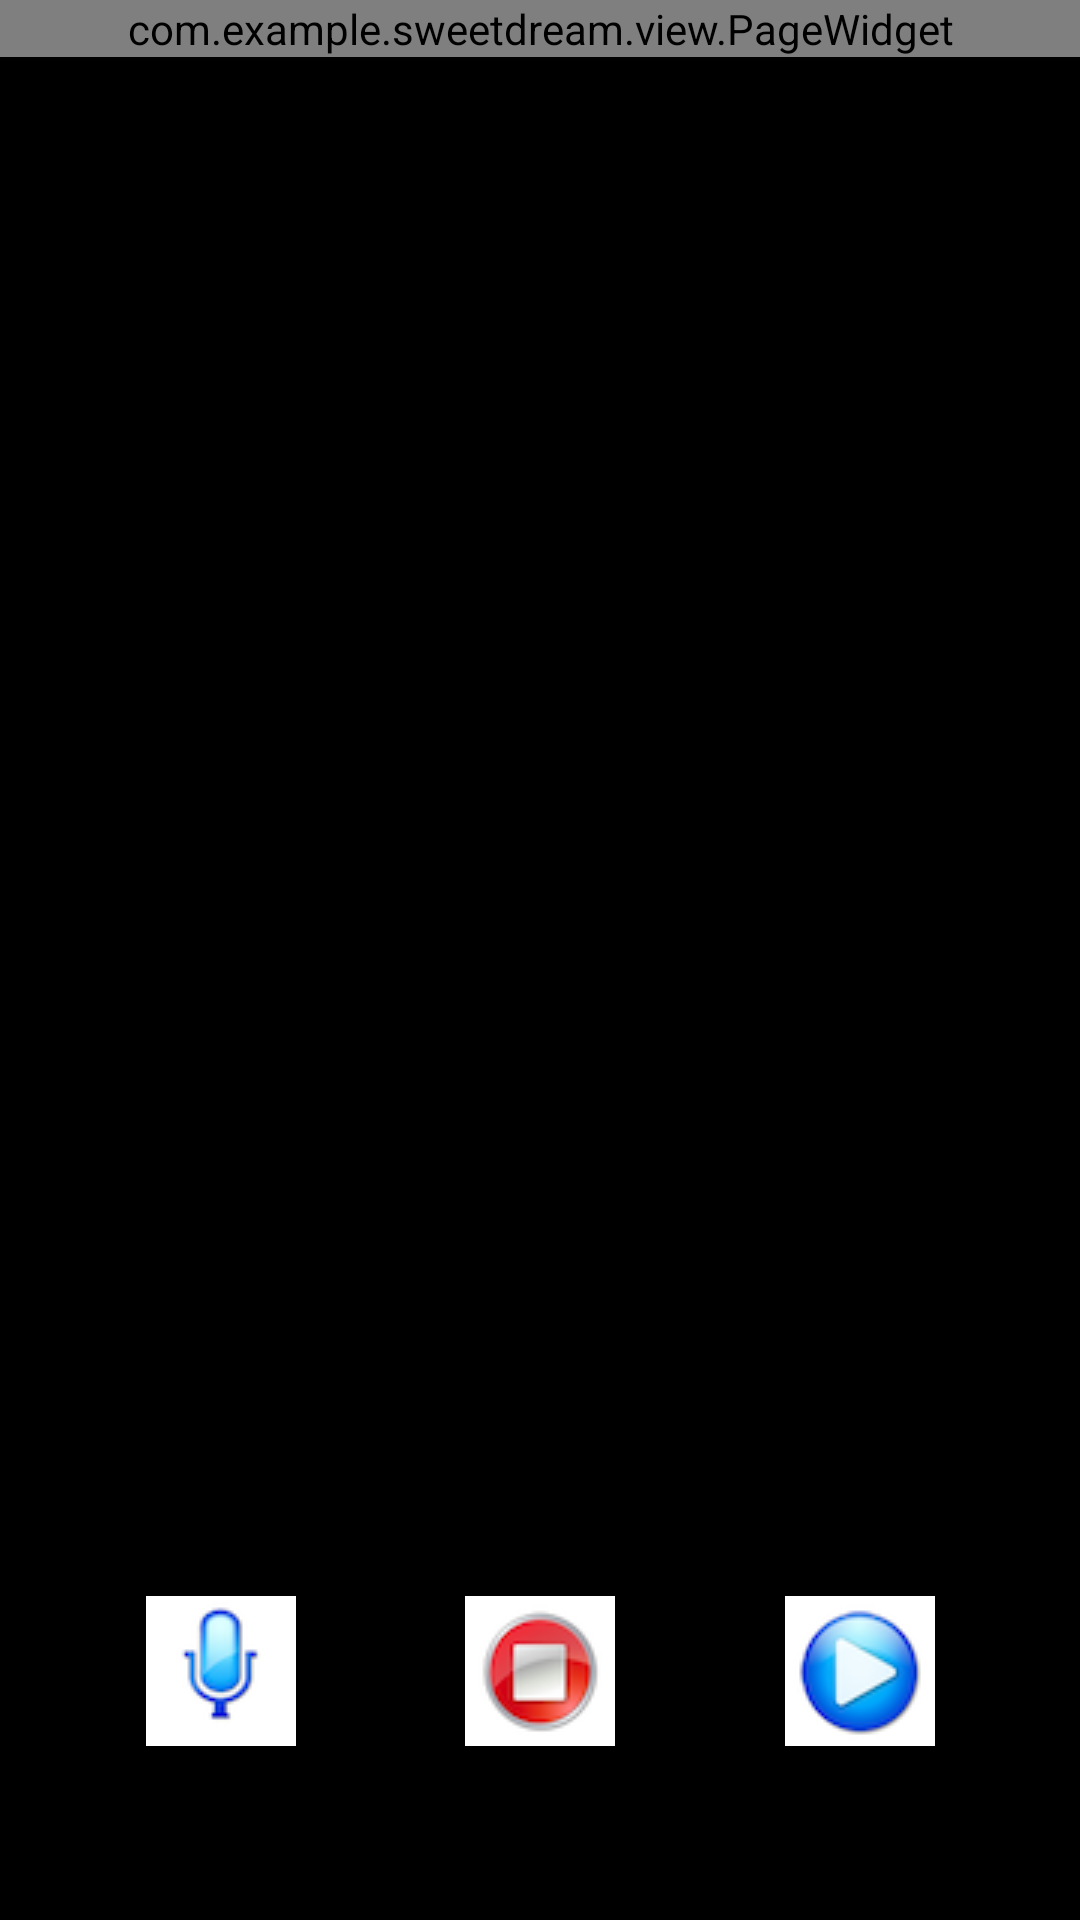

Locate icon controls on the screen. Image size 1080×1920, boxes as (x1, y1, x2, y2).
display play: (785, 1596, 935, 1746)
record: (146, 1596, 296, 1746)
record stop: (465, 1596, 615, 1746)
